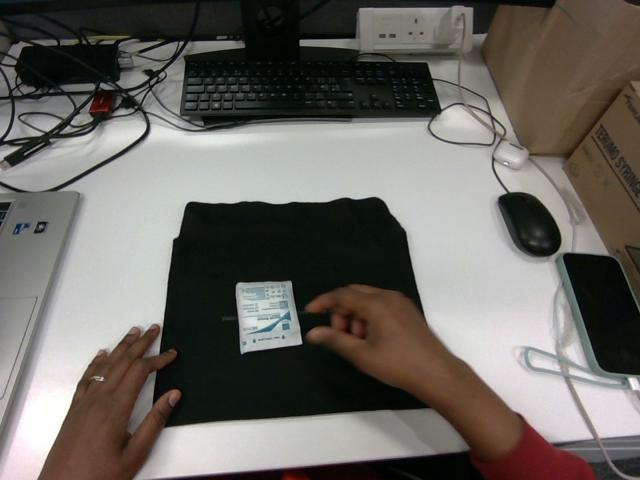gauze: (237, 281, 301, 353)
